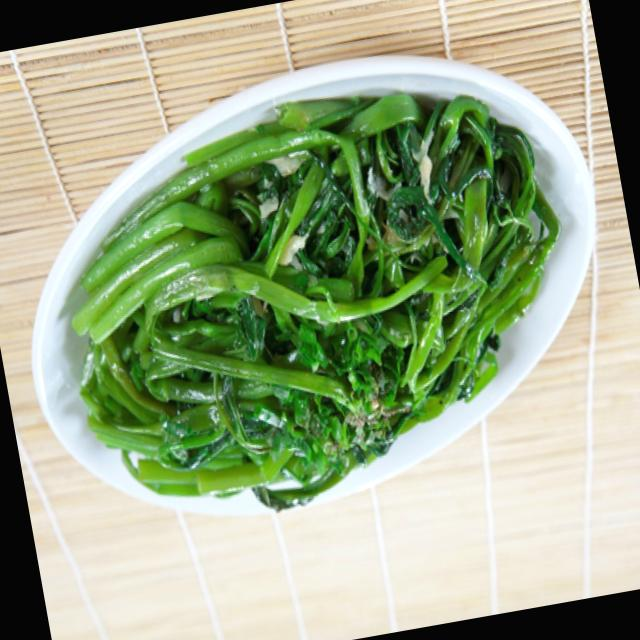rau muong: (72, 93, 561, 511)
